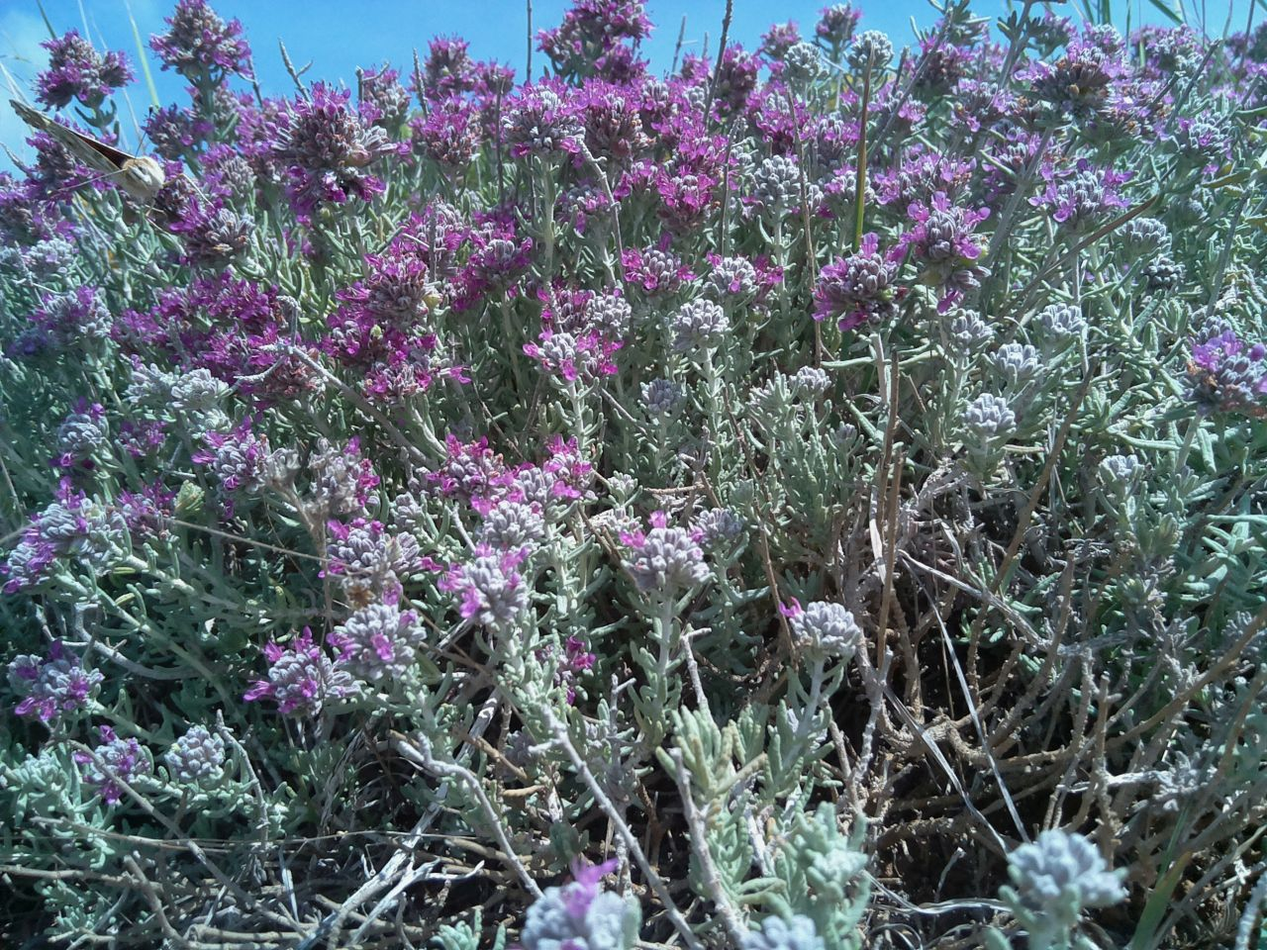Butterfly: (5, 81, 188, 234)
